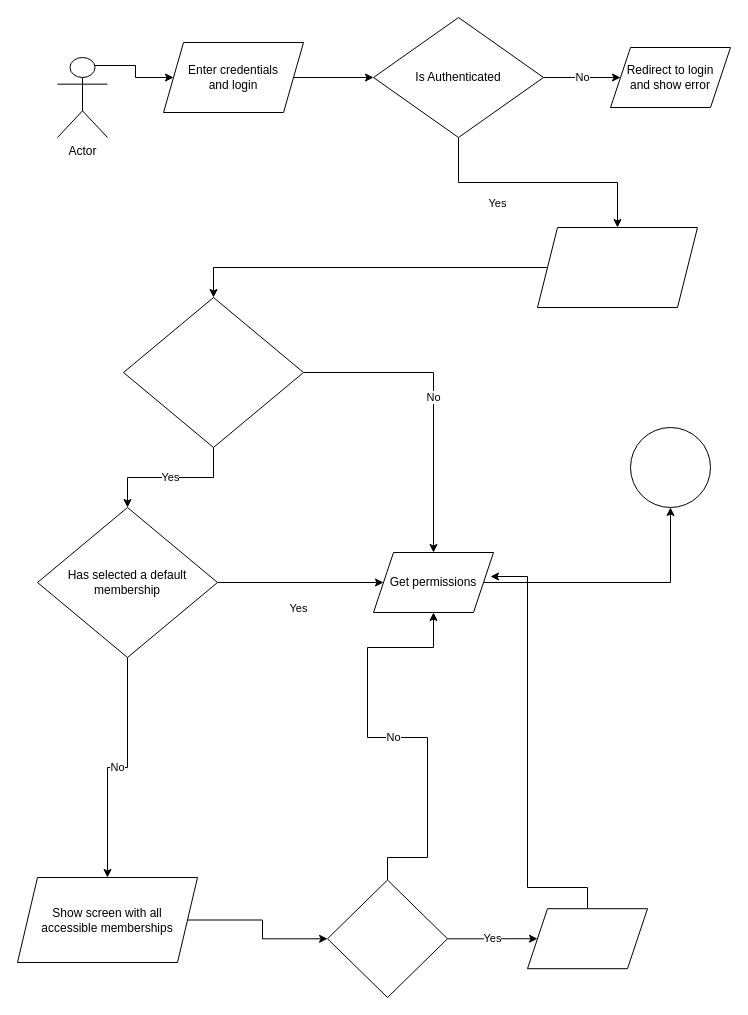
Image size: 748x1015. Some labels were removed from this diagram. The shapes that lost their labels are listed below. From the top down, each one's centre as x and y in pixels, then its label:
At point 617,267: "Get list of Accessible Memberships".
At point 213,372: "Have access to multiple memberships".
At point 387,938: "User Selects Membership and mark it default".
At point 587,938: "Save Default membership".
